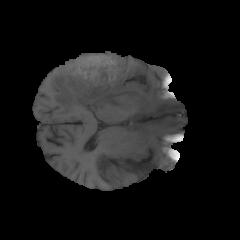glioma: (52, 52, 141, 110)
